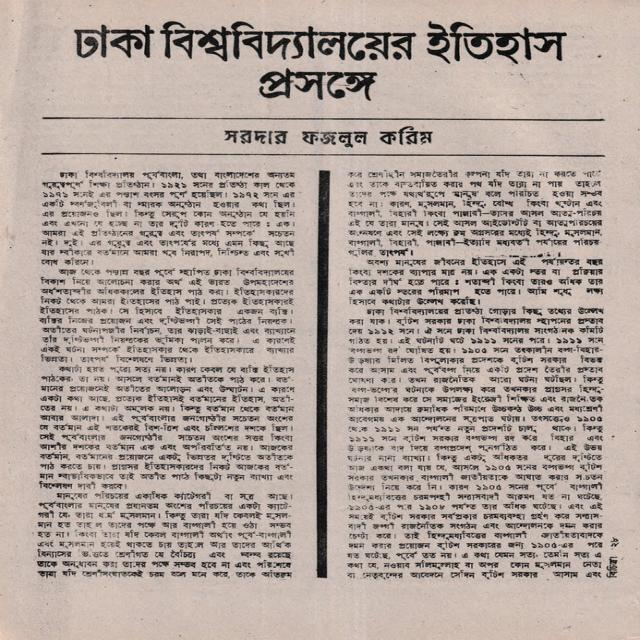page number: (610, 538, 620, 549)
paragraph: (348, 307, 606, 580), (39, 365, 297, 491), (38, 268, 297, 364), (40, 170, 295, 266), (35, 491, 295, 578), (348, 170, 603, 256), (350, 256, 604, 306)
text: (220, 124, 439, 148), (606, 558, 619, 579)
title: (59, 13, 581, 106)
